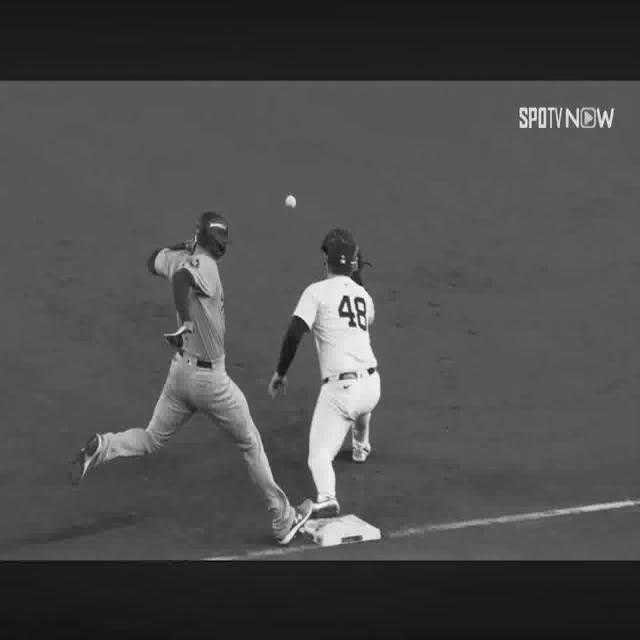base: (300, 513, 381, 547)
baseball: (286, 196, 296, 210)
baseball_glove: (321, 228, 368, 272)
shoe: (272, 498, 312, 548), (70, 433, 101, 487), (311, 495, 340, 518), (350, 442, 371, 463)
